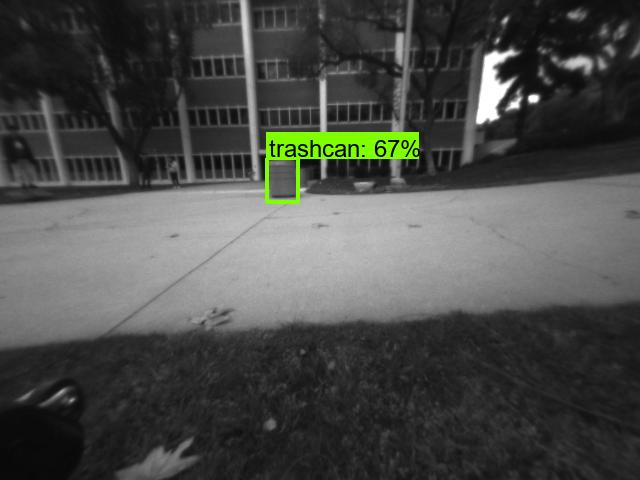trashcan: (269, 158, 298, 204)
